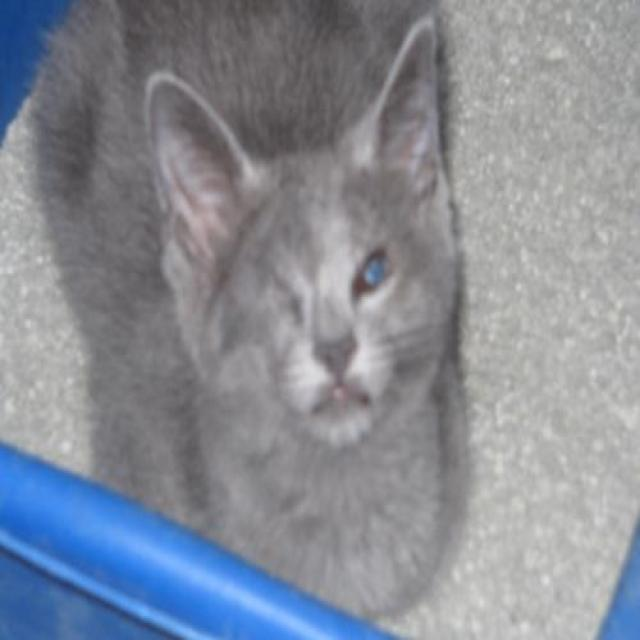Cats: (0, 0, 470, 628)
